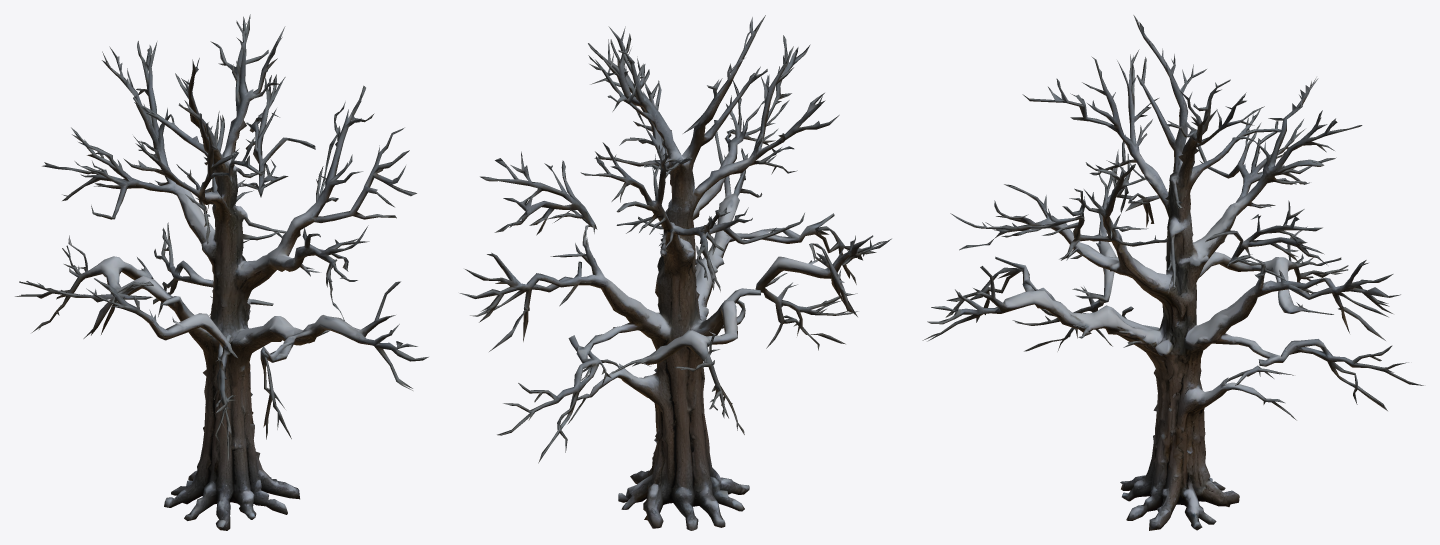
The model's file is tree_oak_bare.glb.
3 views of the same model, side by side, from view 1: azimuth 30°, elevation 25°; view 2: azimuth 150°, elevation 25°; view 3: azimuth 270°, elevation 25° (orthographic). The views are drawn at different scales.
Size of the model in its own units: 0.6532 by 1 by 0.9859.
1 material, 1 textured.
